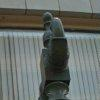Statue: (33, 7, 76, 100)
